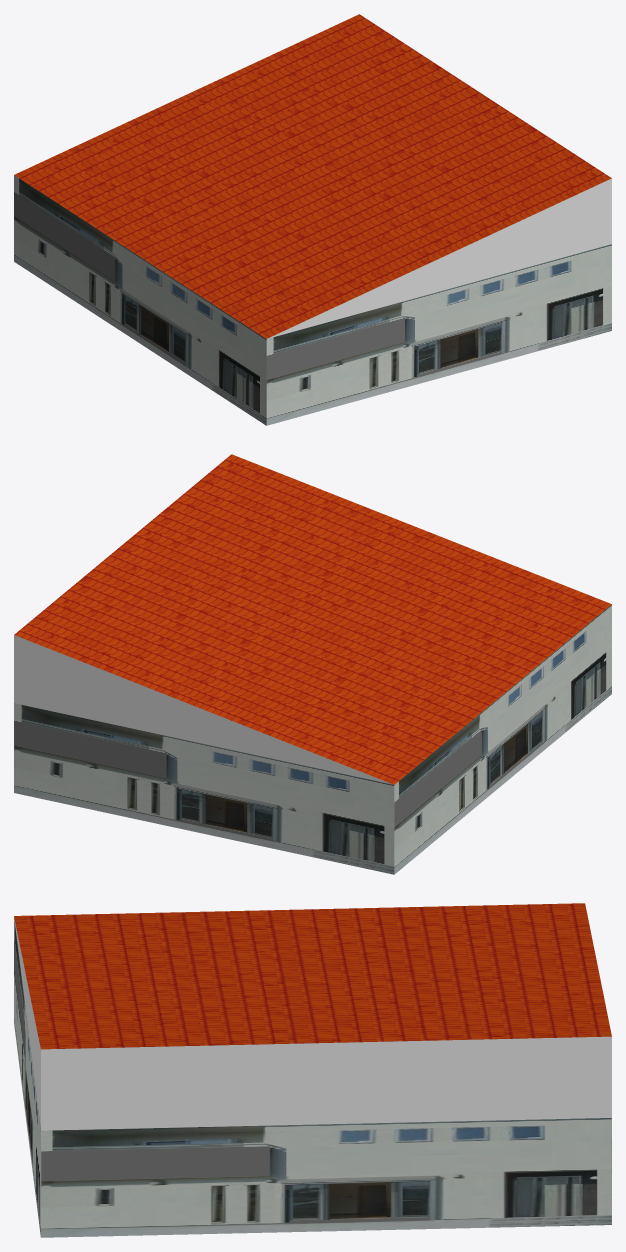
3 views of the same model, one above another, from view 1: azimuth 30°, elevation 25°; view 2: azimuth 150°, elevation 25°; view 3: azimuth 270°, elevation 25° (orthographic). The views are drawn at different scales.
Visible parts, largest first — view 1: CityEngineMaterial_12_m, CityEngineMaterial_11_m, CityEngineMaterial_3_m; view 2: CityEngineMaterial_12_m, CityEngineMaterial_11_m, CityEngineMaterial_3_m; view 3: CityEngineMaterial_12_m, CityEngineMaterial_11_m, CityEngineMaterial_3_m.
Part boxes in pixels (bbox=[...]): CityEngineMaterial_12_m: bbox=[14, 14, 611, 338]; CityEngineMaterial_11_m: bbox=[14, 175, 611, 425]; CityEngineMaterial_3_m: bbox=[267, 178, 611, 338]; CityEngineMaterial_12_m: bbox=[14, 454, 611, 784]; CityEngineMaterial_11_m: bbox=[14, 604, 611, 874]; CityEngineMaterial_3_m: bbox=[14, 635, 392, 784]; CityEngineMaterial_12_m: bbox=[14, 903, 611, 1049]; CityEngineMaterial_11_m: bbox=[14, 917, 611, 1237]; CityEngineMaterial_3_m: bbox=[14, 918, 611, 1130].
Bounding box in the file's own units: 24.86 × 9.6 × 27.62.
